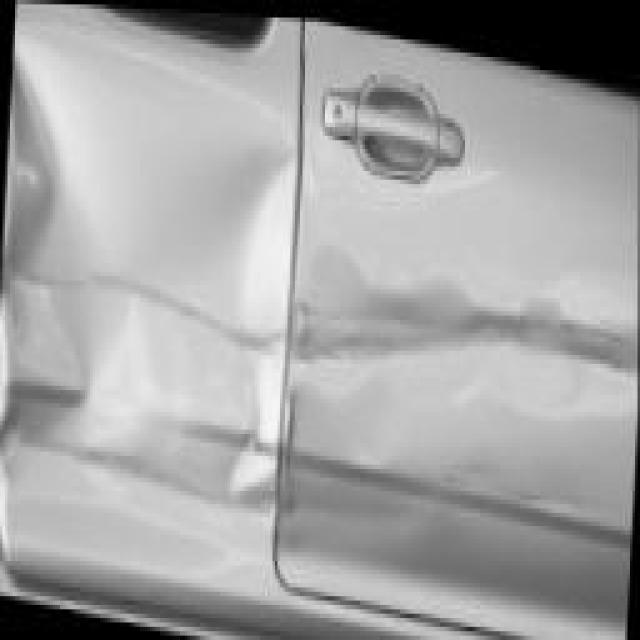Door: (278, 127, 639, 639)
Fender: (0, 39, 290, 563)
